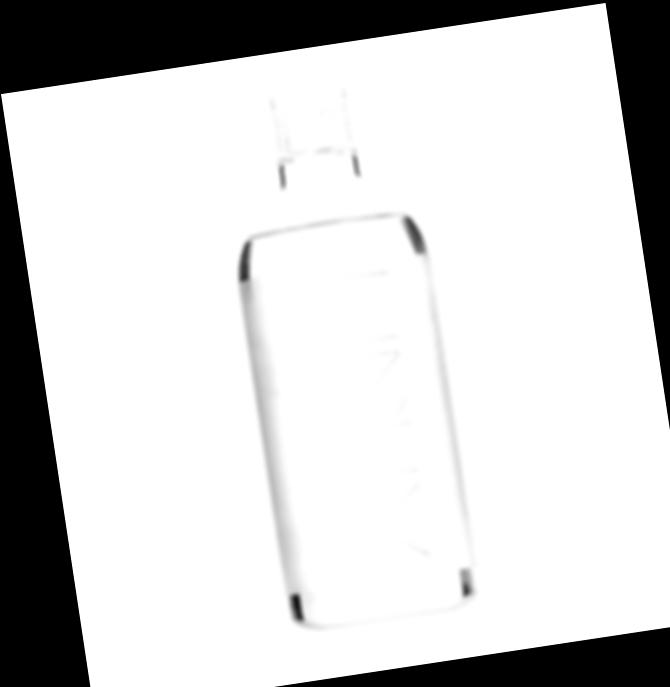cosmetic: (212, 69, 483, 630)
